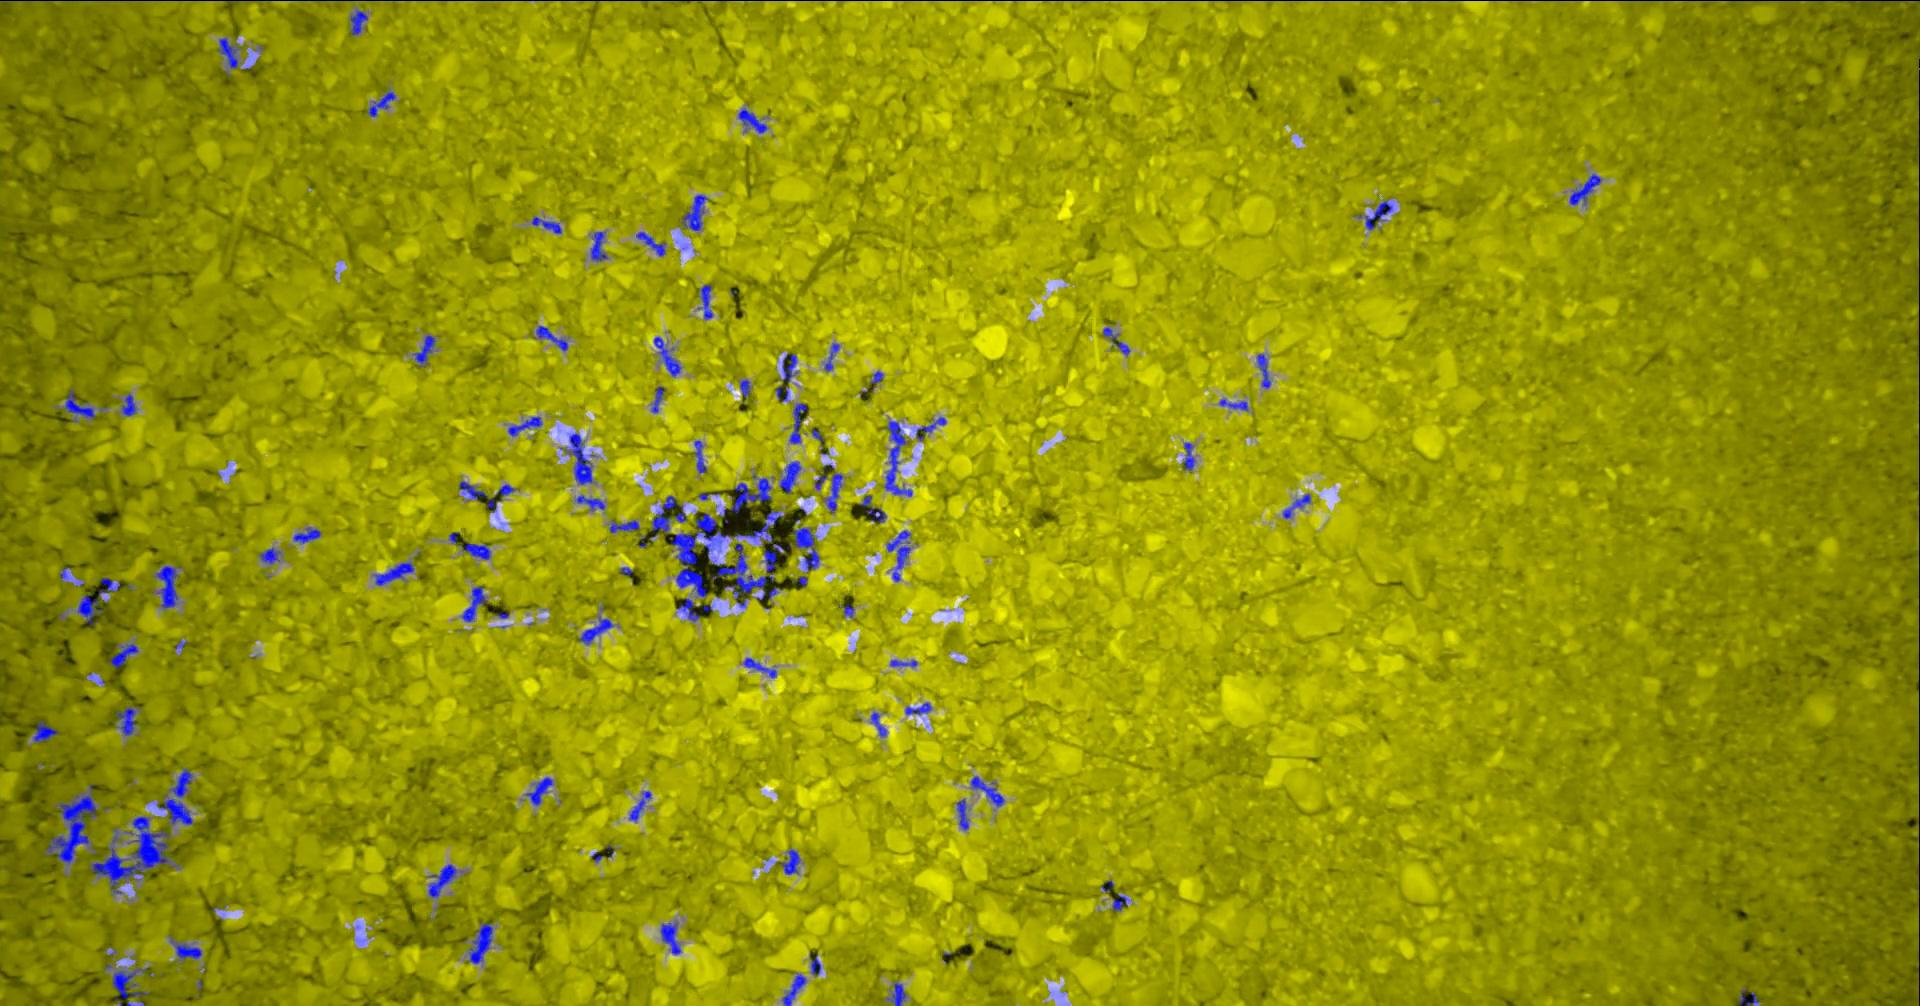ant: (717, 478, 771, 516), (884, 420, 910, 495), (157, 768, 192, 824), (112, 967, 149, 1005), (568, 433, 592, 484), (886, 530, 910, 580), (792, 527, 819, 570), (651, 495, 679, 536), (775, 353, 797, 401), (653, 337, 681, 376), (970, 775, 1004, 807), (577, 615, 613, 644), (1570, 173, 1601, 205), (1357, 199, 1392, 229), (154, 565, 177, 608), (372, 561, 413, 586), (681, 194, 707, 230), (461, 586, 488, 621), (63, 389, 95, 418), (428, 864, 456, 897), (469, 923, 491, 963), (535, 325, 568, 351), (524, 776, 552, 805), (635, 231, 665, 257), (77, 594, 102, 625), (782, 973, 805, 1005), (789, 403, 806, 443), (858, 495, 885, 522), (1103, 326, 1129, 354), (1283, 493, 1310, 518), (738, 108, 767, 132), (109, 643, 138, 667), (629, 790, 651, 821), (778, 461, 800, 493), (659, 922, 681, 954), (367, 91, 395, 116), (411, 335, 436, 363), (743, 657, 776, 677), (916, 417, 945, 439), (507, 417, 541, 436), (825, 473, 842, 512), (217, 37, 237, 69), (170, 937, 201, 958), (116, 706, 136, 735), (32, 720, 58, 741), (458, 480, 486, 499), (458, 542, 490, 559), (676, 598, 698, 621), (780, 848, 800, 874), (531, 216, 561, 232), (814, 464, 833, 489), (590, 231, 607, 260), (698, 285, 712, 319), (1256, 353, 1270, 387), (349, 10, 367, 36), (97, 577, 119, 596), (577, 494, 604, 509), (824, 343, 839, 370), (293, 527, 320, 542), (888, 982, 905, 1005), (870, 711, 886, 735), (695, 439, 706, 473), (956, 798, 968, 829), (610, 520, 637, 532), (121, 392, 136, 415), (1218, 399, 1247, 410), (651, 386, 664, 412), (259, 547, 279, 563), (904, 702, 931, 714), (1738, 989, 1757, 1005), (1183, 442, 1194, 470), (870, 370, 883, 390), (739, 379, 750, 400), (1112, 894, 1128, 909), (497, 484, 514, 495), (838, 605, 853, 617), (810, 955, 820, 974), (889, 659, 916, 666), (1837, 0, 1905, 1)
